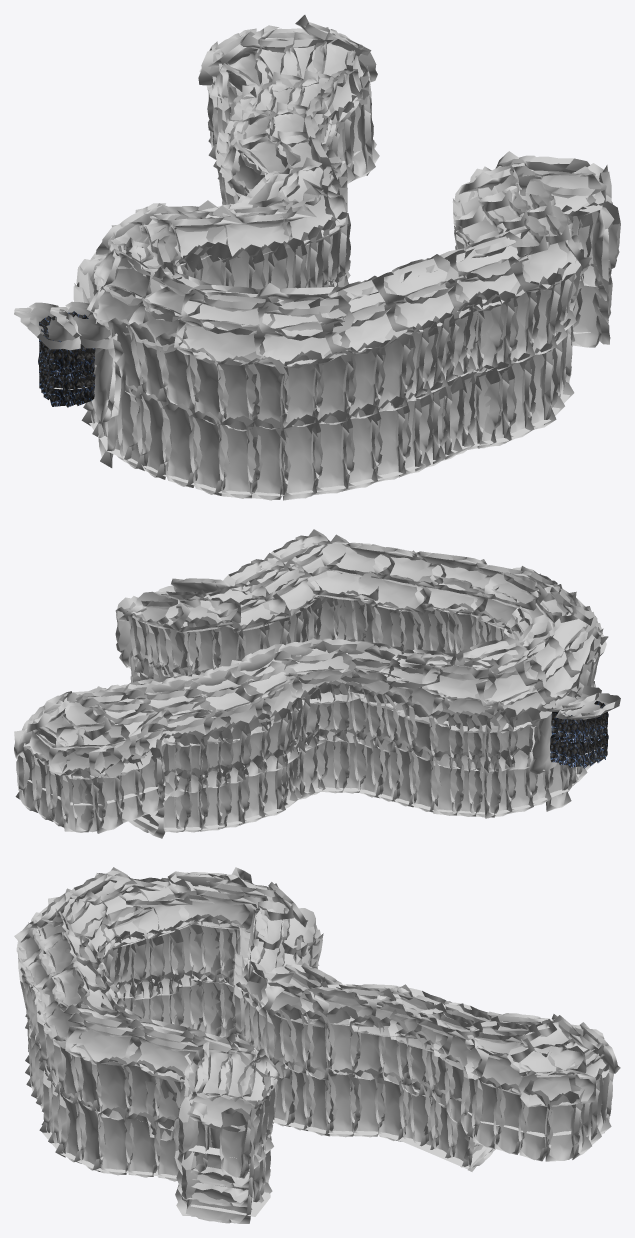
File: cave2_inside.FBX
3 renders of one model, top to bottom at view 1: azimuth 30°, elevation 25°; view 2: azimuth 150°, elevation 25°; view 3: azimuth 270°, elevation 25°, orthographic. The views are drawn at different scales.
Visible parts, largest first — view 1: stone893, stone1107, stone957, stone955, stone956, stone958, stone1104, stone1106, stone954, stone959, stone1105, stone953 (+98 smaller); view 2: stone893, stone1135, stone1093, cave2_floor, stone1180, stone1132, stone1103, stone1095, stone943, stone1102, stone1090, stone1119 (+136 smaller); view 3: cave2_floor, stone985, stone1088, stone1186, stone975, stone1178, stone981, stone1149, stone919, stone991, stone1150, stone1151 (+116 smaller).
Boxes of the visible parts, <box> form: stone893: <box>14,301,126,422</box>; stone1107: <box>174,319,264,365</box>; stone957: <box>279,414,322,500</box>; stone955: <box>218,415,262,498</box>; stone956: <box>246,417,290,500</box>; stone958: <box>311,410,354,494</box>; stone1104: <box>372,254,459,304</box>; stone1106: <box>254,318,350,368</box>; stone954: <box>188,411,229,495</box>; stone959: <box>340,403,382,490</box>; stone1105: <box>321,299,407,354</box>; stone953: <box>161,402,202,487</box>; stone893: <box>529,685,620,774</box>; stone1135: <box>422,664,496,700</box>; stone1093: <box>357,572,431,613</box>; cave2_floor: <box>27,747,602,830</box>; stone1180: <box>49,744,124,779</box>; stone1132: <box>475,659,546,706</box>; stone1103: <box>372,554,446,588</box>; stone1095: <box>415,575,487,616</box>; stone943: <box>430,750,465,815</box>; stone1102: <box>320,543,394,578</box>; stone1090: <box>306,568,378,600</box>; stone1119: <box>484,572,547,610</box>; cave2_floor: <box>31,1036,581,1216</box>; stone985: <box>175,1182,251,1223</box>; stone1088: <box>65,1026,141,1065</box>; stone1186: <box>507,1044,586,1077</box>; stone975: <box>124,1112,161,1177</box>; stone1178: <box>518,1069,595,1107</box>; stone981: <box>219,1108,254,1178</box>; stone1149: <box>544,1091,581,1161</box>; stone919: <box>325,1068,362,1137</box>; stone991: <box>96,1056,134,1120</box>; stone1150: <box>518,1089,553,1161</box>; stone1151: <box>493,1083,528,1154</box>.
Size of the model in its own units: 8405 by 2791 by 8831.
